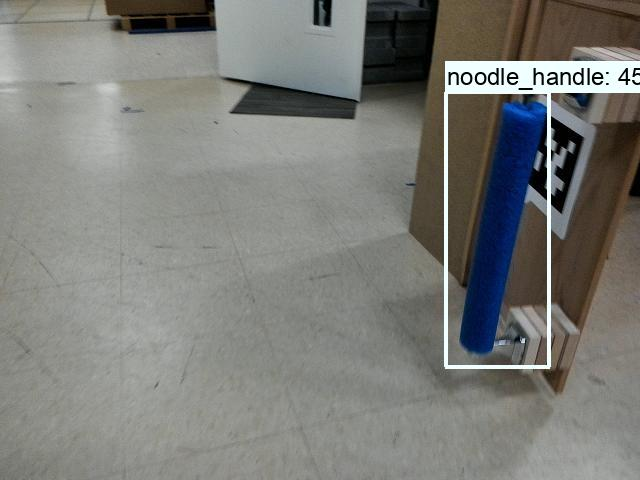noodle_handle: (459, 94, 539, 370)
